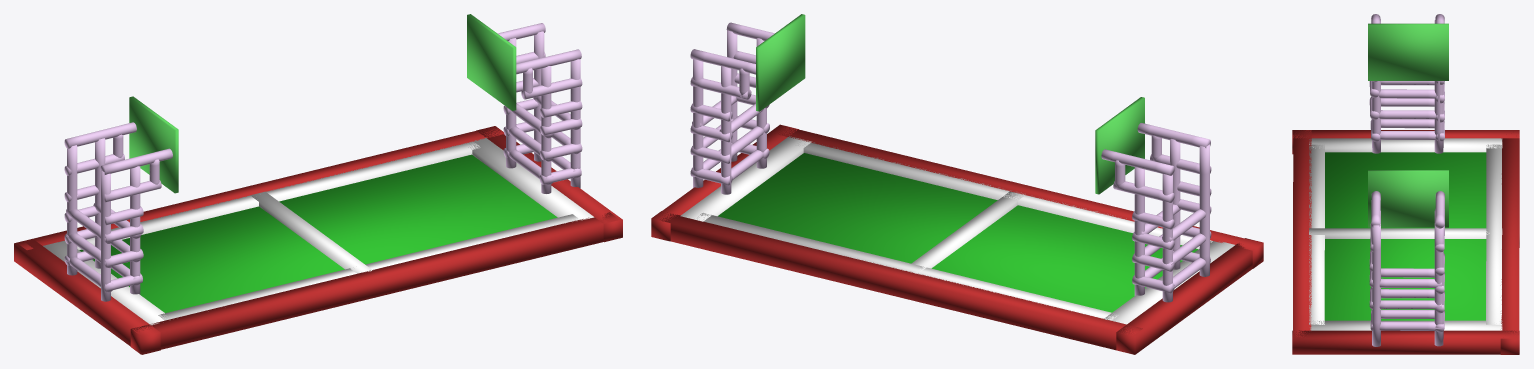
The model's file is lapbasket.fbx.
3 views of the same model, side by side, from view 1: azimuth 30°, elevation 25°; view 2: azimuth 150°, elevation 25°; view 3: azimuth 270°, elevation 25° (orthographic). The views are drawn at different scales.
Parts seen in each view (by area): view 1: Box001, Box010, Box007, Box004, Box009, Box014, Box011, Box013, Box012, Box006, Box008, Box002 (+13 smaller); view 2: Box001, Box009, Box007, Box010, Box011, Box004, Box014, Box013, Box012, Box006, Box008, Box002 (+13 smaller); view 3: Box001, Box008, Box013, Box014, Box009, Box010, Box004, Box011, Box002, Box006, Box007, Box012 (+18 smaller).
Part boxes in pixels (x1,y1,x2,y2): Box001: (79, 154, 557, 313); Box010: (130, 212, 619, 354); Box007: (14, 238, 160, 354); Box004: (58, 141, 480, 249); Box009: (17, 126, 504, 250); Box014: (467, 14, 516, 110); Box011: (158, 214, 579, 320); Box013: (129, 96, 178, 193); Box012: (468, 138, 594, 220); Box006: (250, 191, 372, 273); Box008: (476, 126, 622, 242); Box002: (43, 240, 165, 325); Box001: (718, 153, 1198, 312); Box009: (651, 211, 1142, 350); Box007: (1116, 238, 1263, 354); Box010: (773, 126, 1263, 268); Box011: (798, 142, 1212, 249); Box004: (697, 213, 1118, 320); Box014: (756, 14, 805, 111); Box013: (1095, 97, 1144, 194); Box012: (680, 136, 811, 221); Box006: (911, 190, 1025, 273); Box008: (651, 124, 798, 241); Box002: (1104, 241, 1234, 324); Box001: (1324, 152, 1486, 320); Box008: (1292, 330, 1519, 354); Box013: (1368, 23, 1448, 80); Box014: (1368, 170, 1448, 227); Box009: (1500, 138, 1519, 354); Box010: (1293, 130, 1311, 337); Box004: (1486, 144, 1501, 324); Box011: (1309, 144, 1324, 324); Box002: (1309, 138, 1502, 152); Box006: (1309, 228, 1502, 238); Box007: (1292, 130, 1519, 154); Box012: (1310, 320, 1502, 330).
Size of the model in its own units: 16869 by 5798 by 7692.
